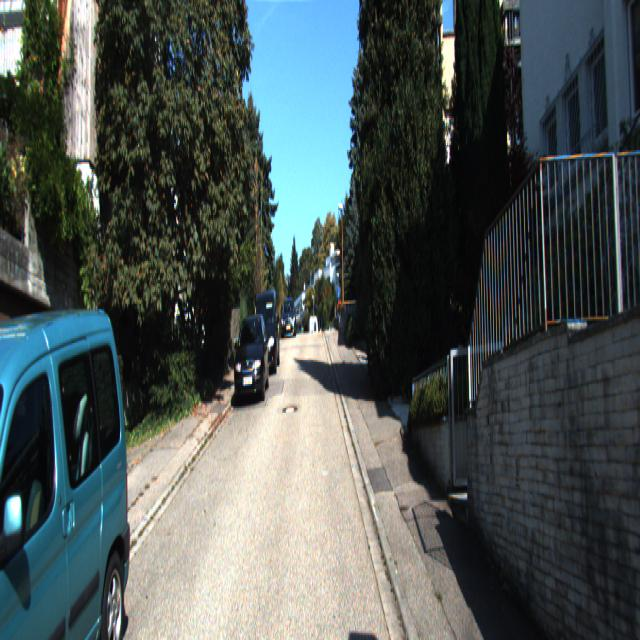Car: (0, 304, 136, 638), (233, 315, 269, 405), (250, 286, 280, 374), (280, 296, 296, 339)
